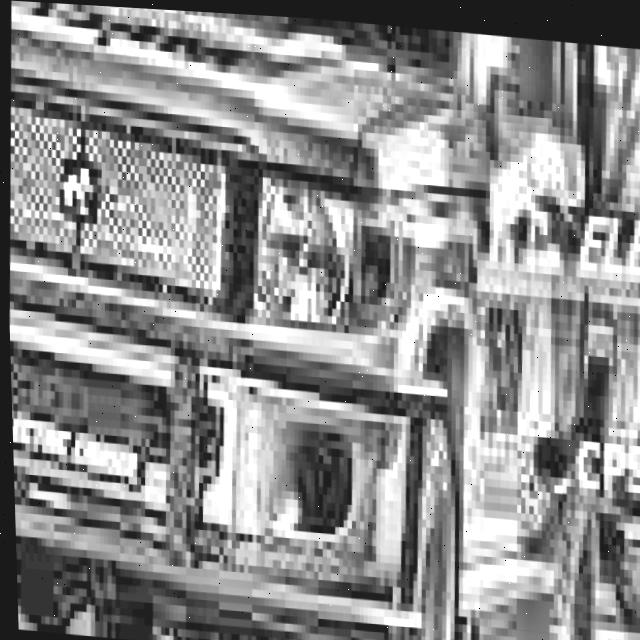light_vehicle: (0, 0, 637, 640)
